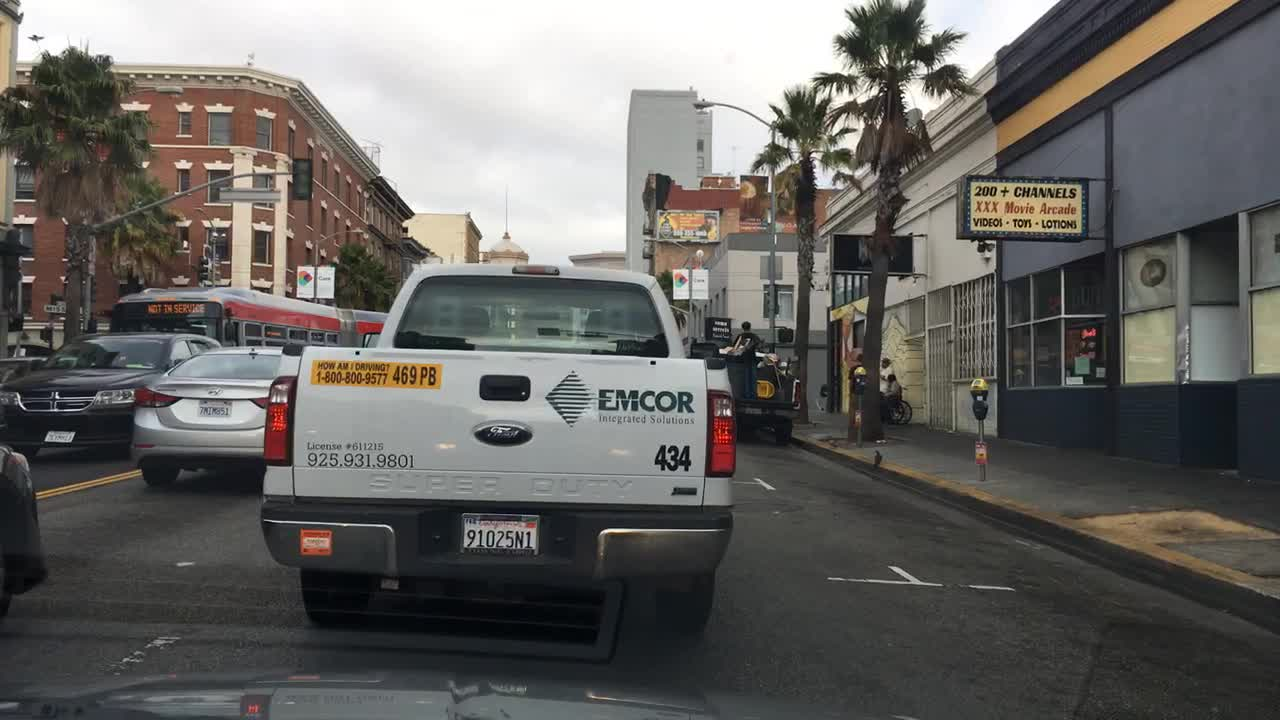bike: (876, 391, 912, 424)
bus: (109, 285, 388, 354)
car: (0, 329, 226, 458), (130, 347, 295, 489), (0, 445, 49, 612), (0, 354, 42, 385)
person: (733, 322, 760, 400), (847, 356, 864, 434), (880, 359, 902, 417), (84, 309, 98, 326)
traffic light: (291, 156, 314, 199), (197, 255, 208, 284), (774, 326, 791, 342)
traffic sign: (218, 187, 280, 202), (757, 260, 783, 280), (42, 302, 71, 314)
truck: (263, 259, 739, 637), (689, 339, 802, 441)
